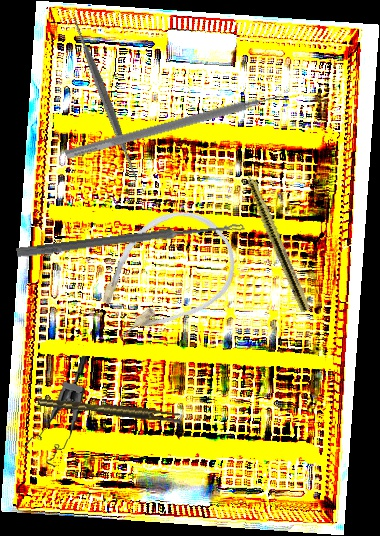Cannula: (74, 191, 253, 361)
Handpiece: (233, 149, 313, 314)
Spatula Surgical: (13, 7, 197, 191), (64, 86, 291, 170)
Speculum: (21, 349, 90, 471)
Surgical Spoon: (16, 220, 245, 259)
Tissue Forceps: (37, 391, 183, 428)
